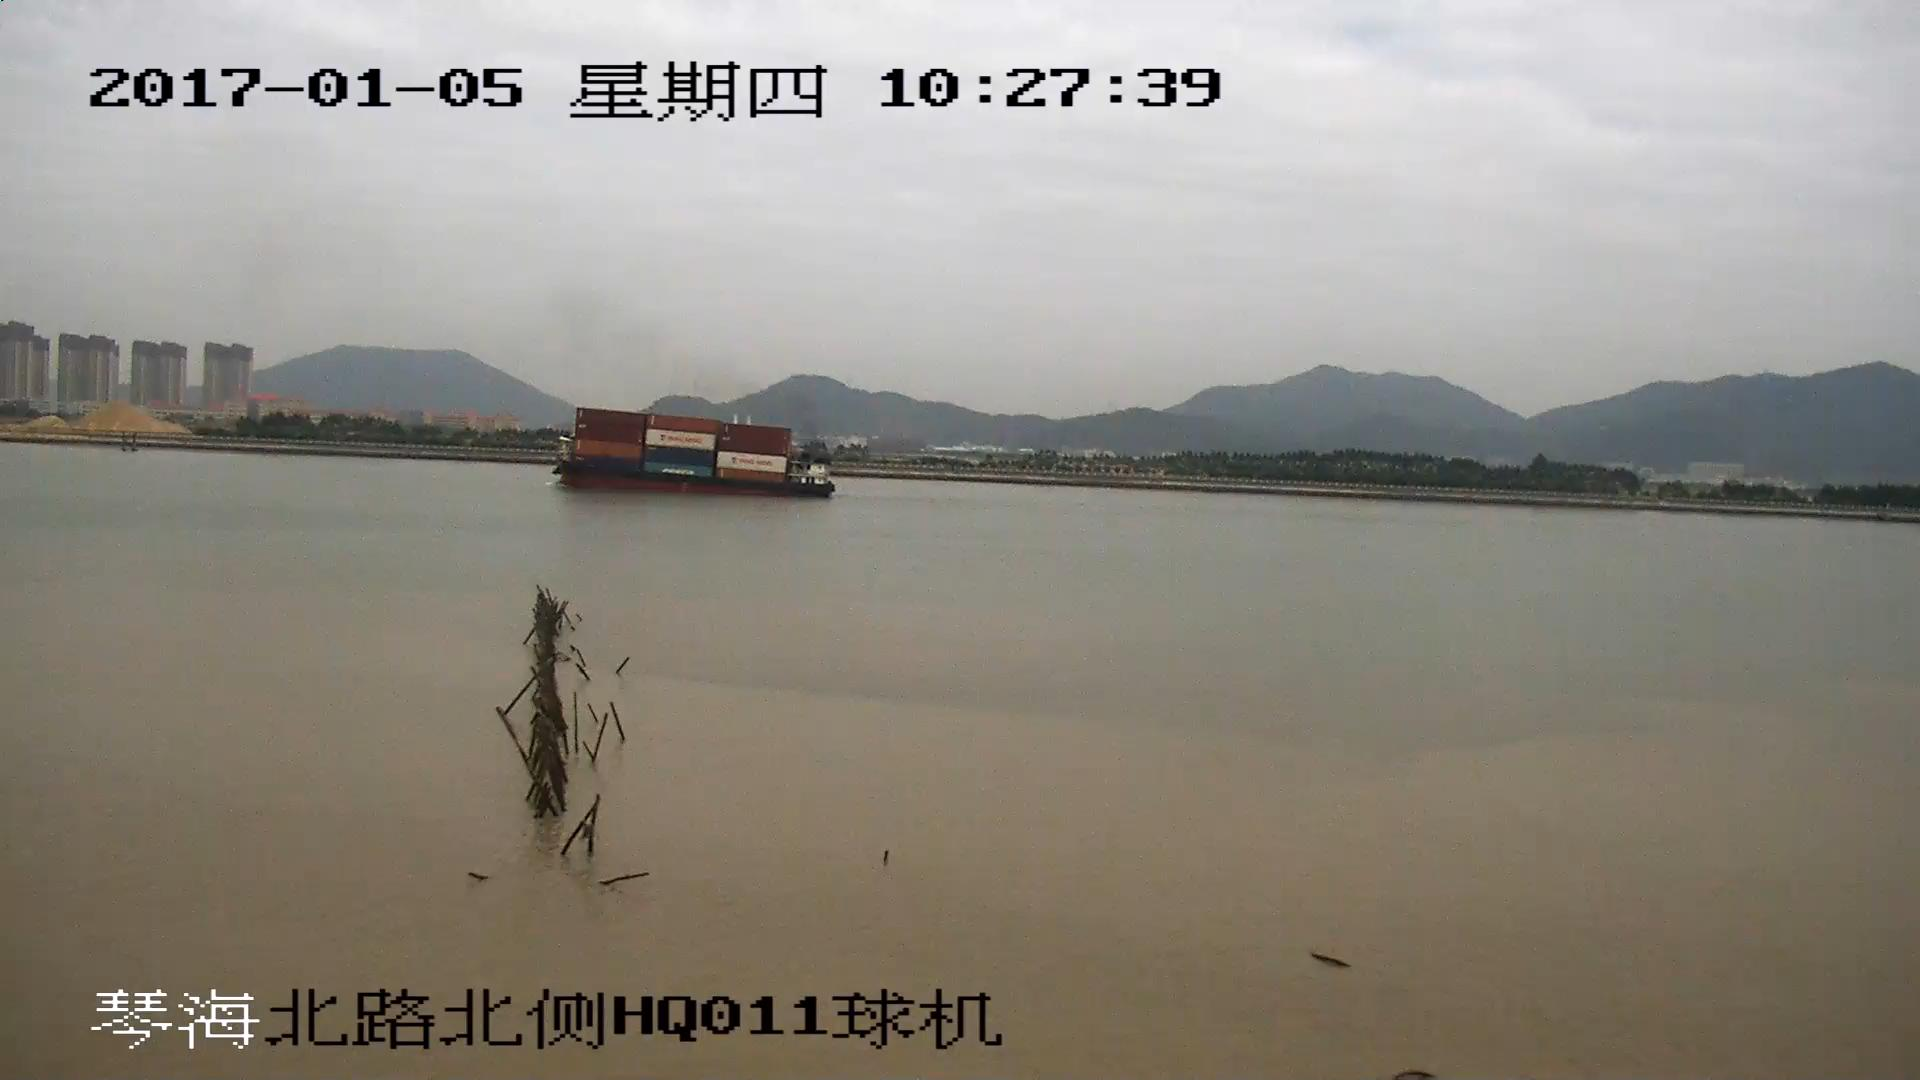container ship: (549, 410, 832, 497)
